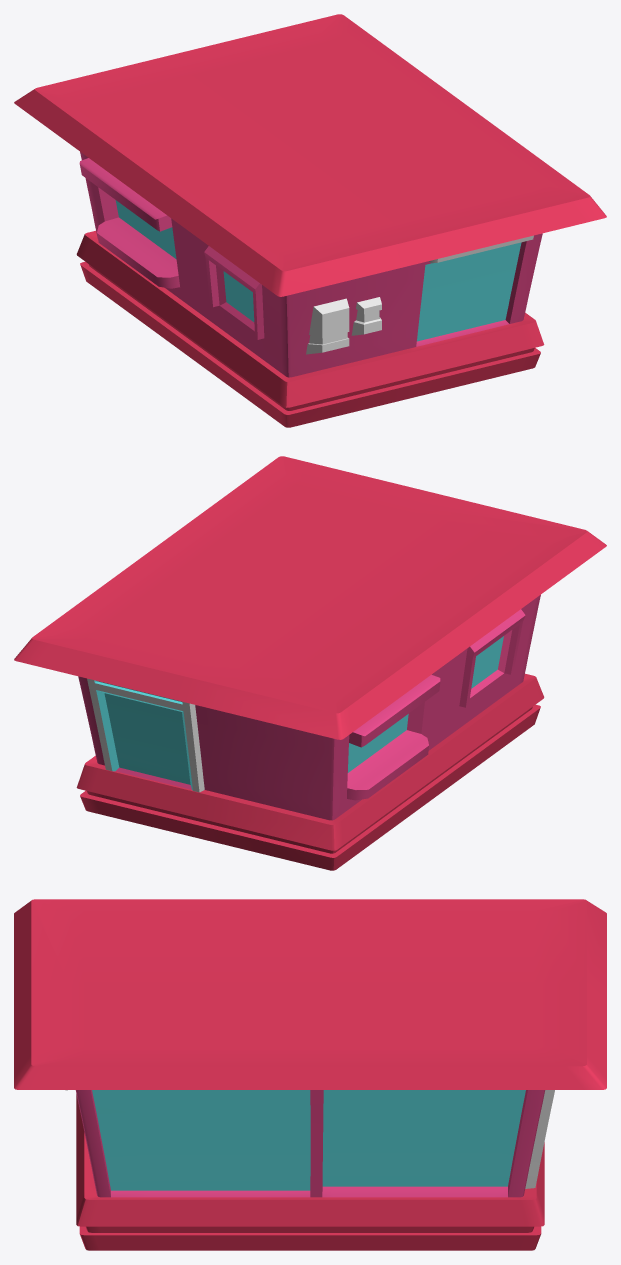
File: FBX_LC_mHouse6.fbx
The picture shows the model from 3 angles, top to bottom: view 1: azimuth 30°, elevation 25°; view 2: azimuth 150°, elevation 25°; view 3: azimuth 270°, elevation 25°; orthographic projection. The views are drawn at different scales.
Parts seen in each view (by area): view 1: Cube.032; view 2: Cube.032; view 3: Cube.032.
Boxes of the visible parts, <box> form: Cube.032: <box>14,14,606,427</box>; Cube.032: <box>14,456,606,870</box>; Cube.032: <box>14,899,606,1250</box>.
Bounding box in the file's own units: 1637 × 862 × 2303.
